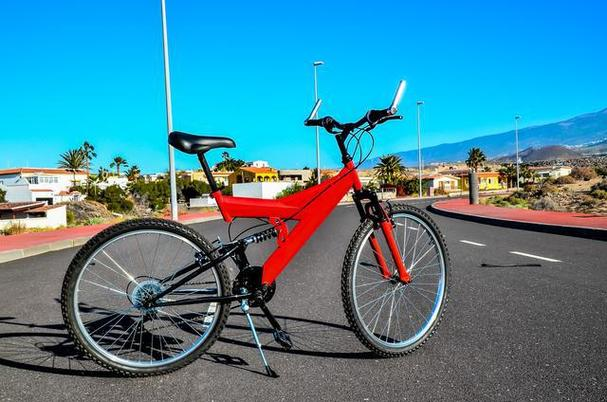单车: (54, 75, 472, 386)
